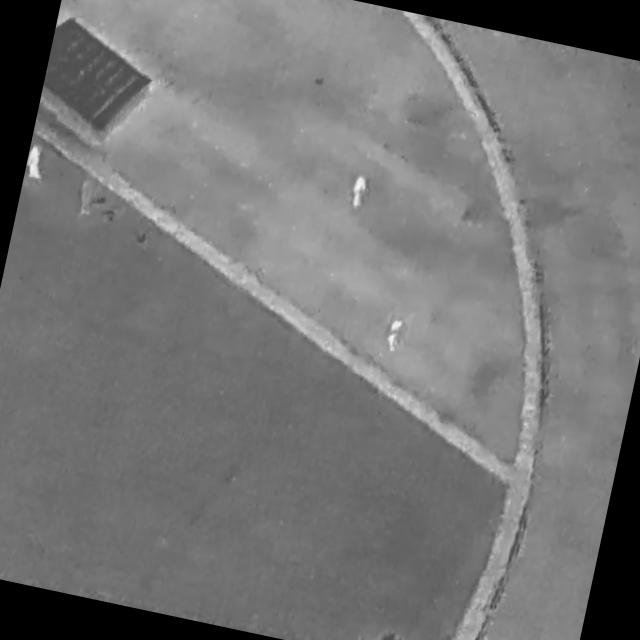person: (24, 142, 49, 184), (348, 171, 371, 212), (385, 317, 405, 354)
